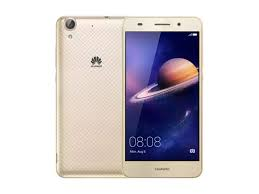huawei: (120, 14, 203, 180), (52, 13, 123, 177)
